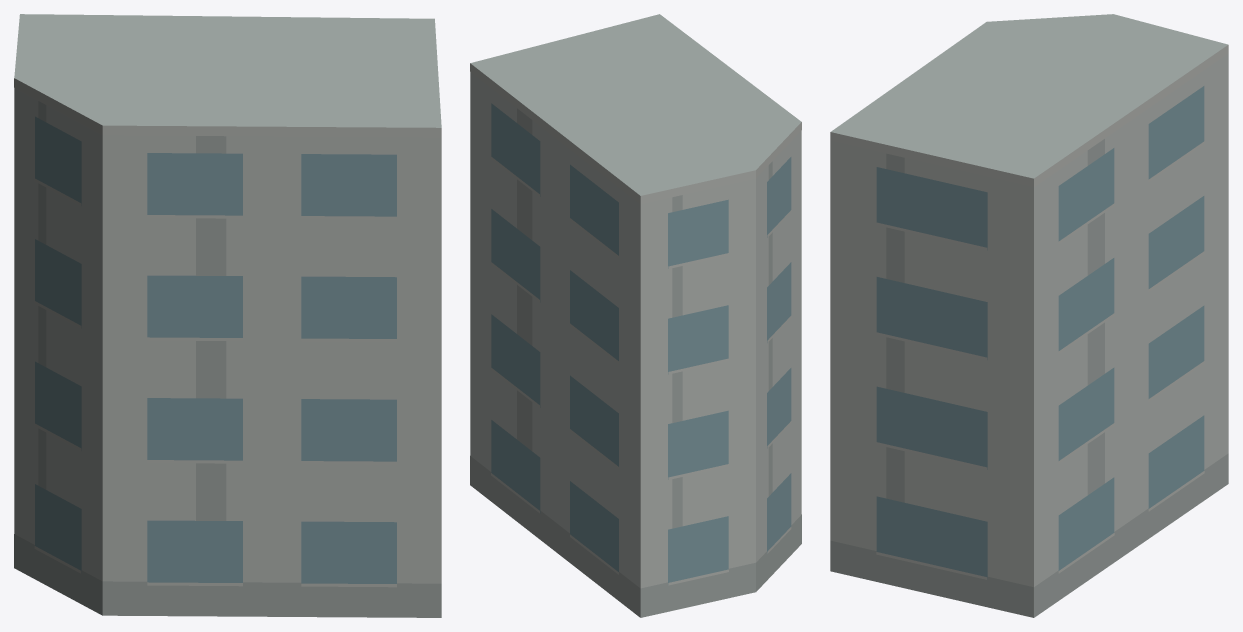
The model's file is residential-1b461f5e-d193-4be9-b50d-a65f9a2f55f9.glb.
3 views of the same model, side by side, from view 1: azimuth 30°, elevation 25°; view 2: azimuth 150°, elevation 25°; view 3: azimuth 270°, elevation 25° (orthographic). The views are drawn at different scales.
Parts seen in each view (by area): view 1: residential-1b461f5e-d193-4be9-b50d-a65f9a2f55f9.tmp; view 2: residential-1b461f5e-d193-4be9-b50d-a65f9a2f55f9.tmp; view 3: residential-1b461f5e-d193-4be9-b50d-a65f9a2f55f9.tmp.
Part boxes in pixels (x1,y1,x2,y2): residential-1b461f5e-d193-4be9-b50d-a65f9a2f55f9.tmp: [14, 14, 441, 617]; residential-1b461f5e-d193-4be9-b50d-a65f9a2f55f9.tmp: [470, 14, 801, 617]; residential-1b461f5e-d193-4be9-b50d-a65f9a2f55f9.tmp: [830, 14, 1228, 617].
Bounding box in the file's own units: 9.81 × 12.2 × 10.03.
